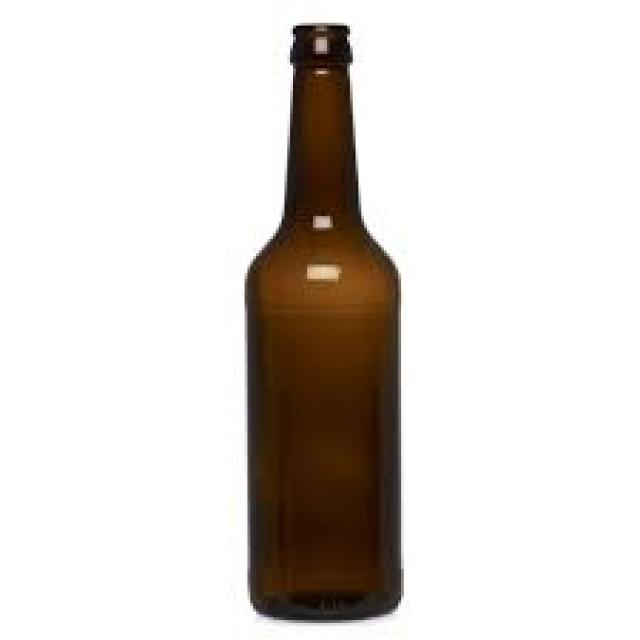glass: (245, 20, 404, 617)
